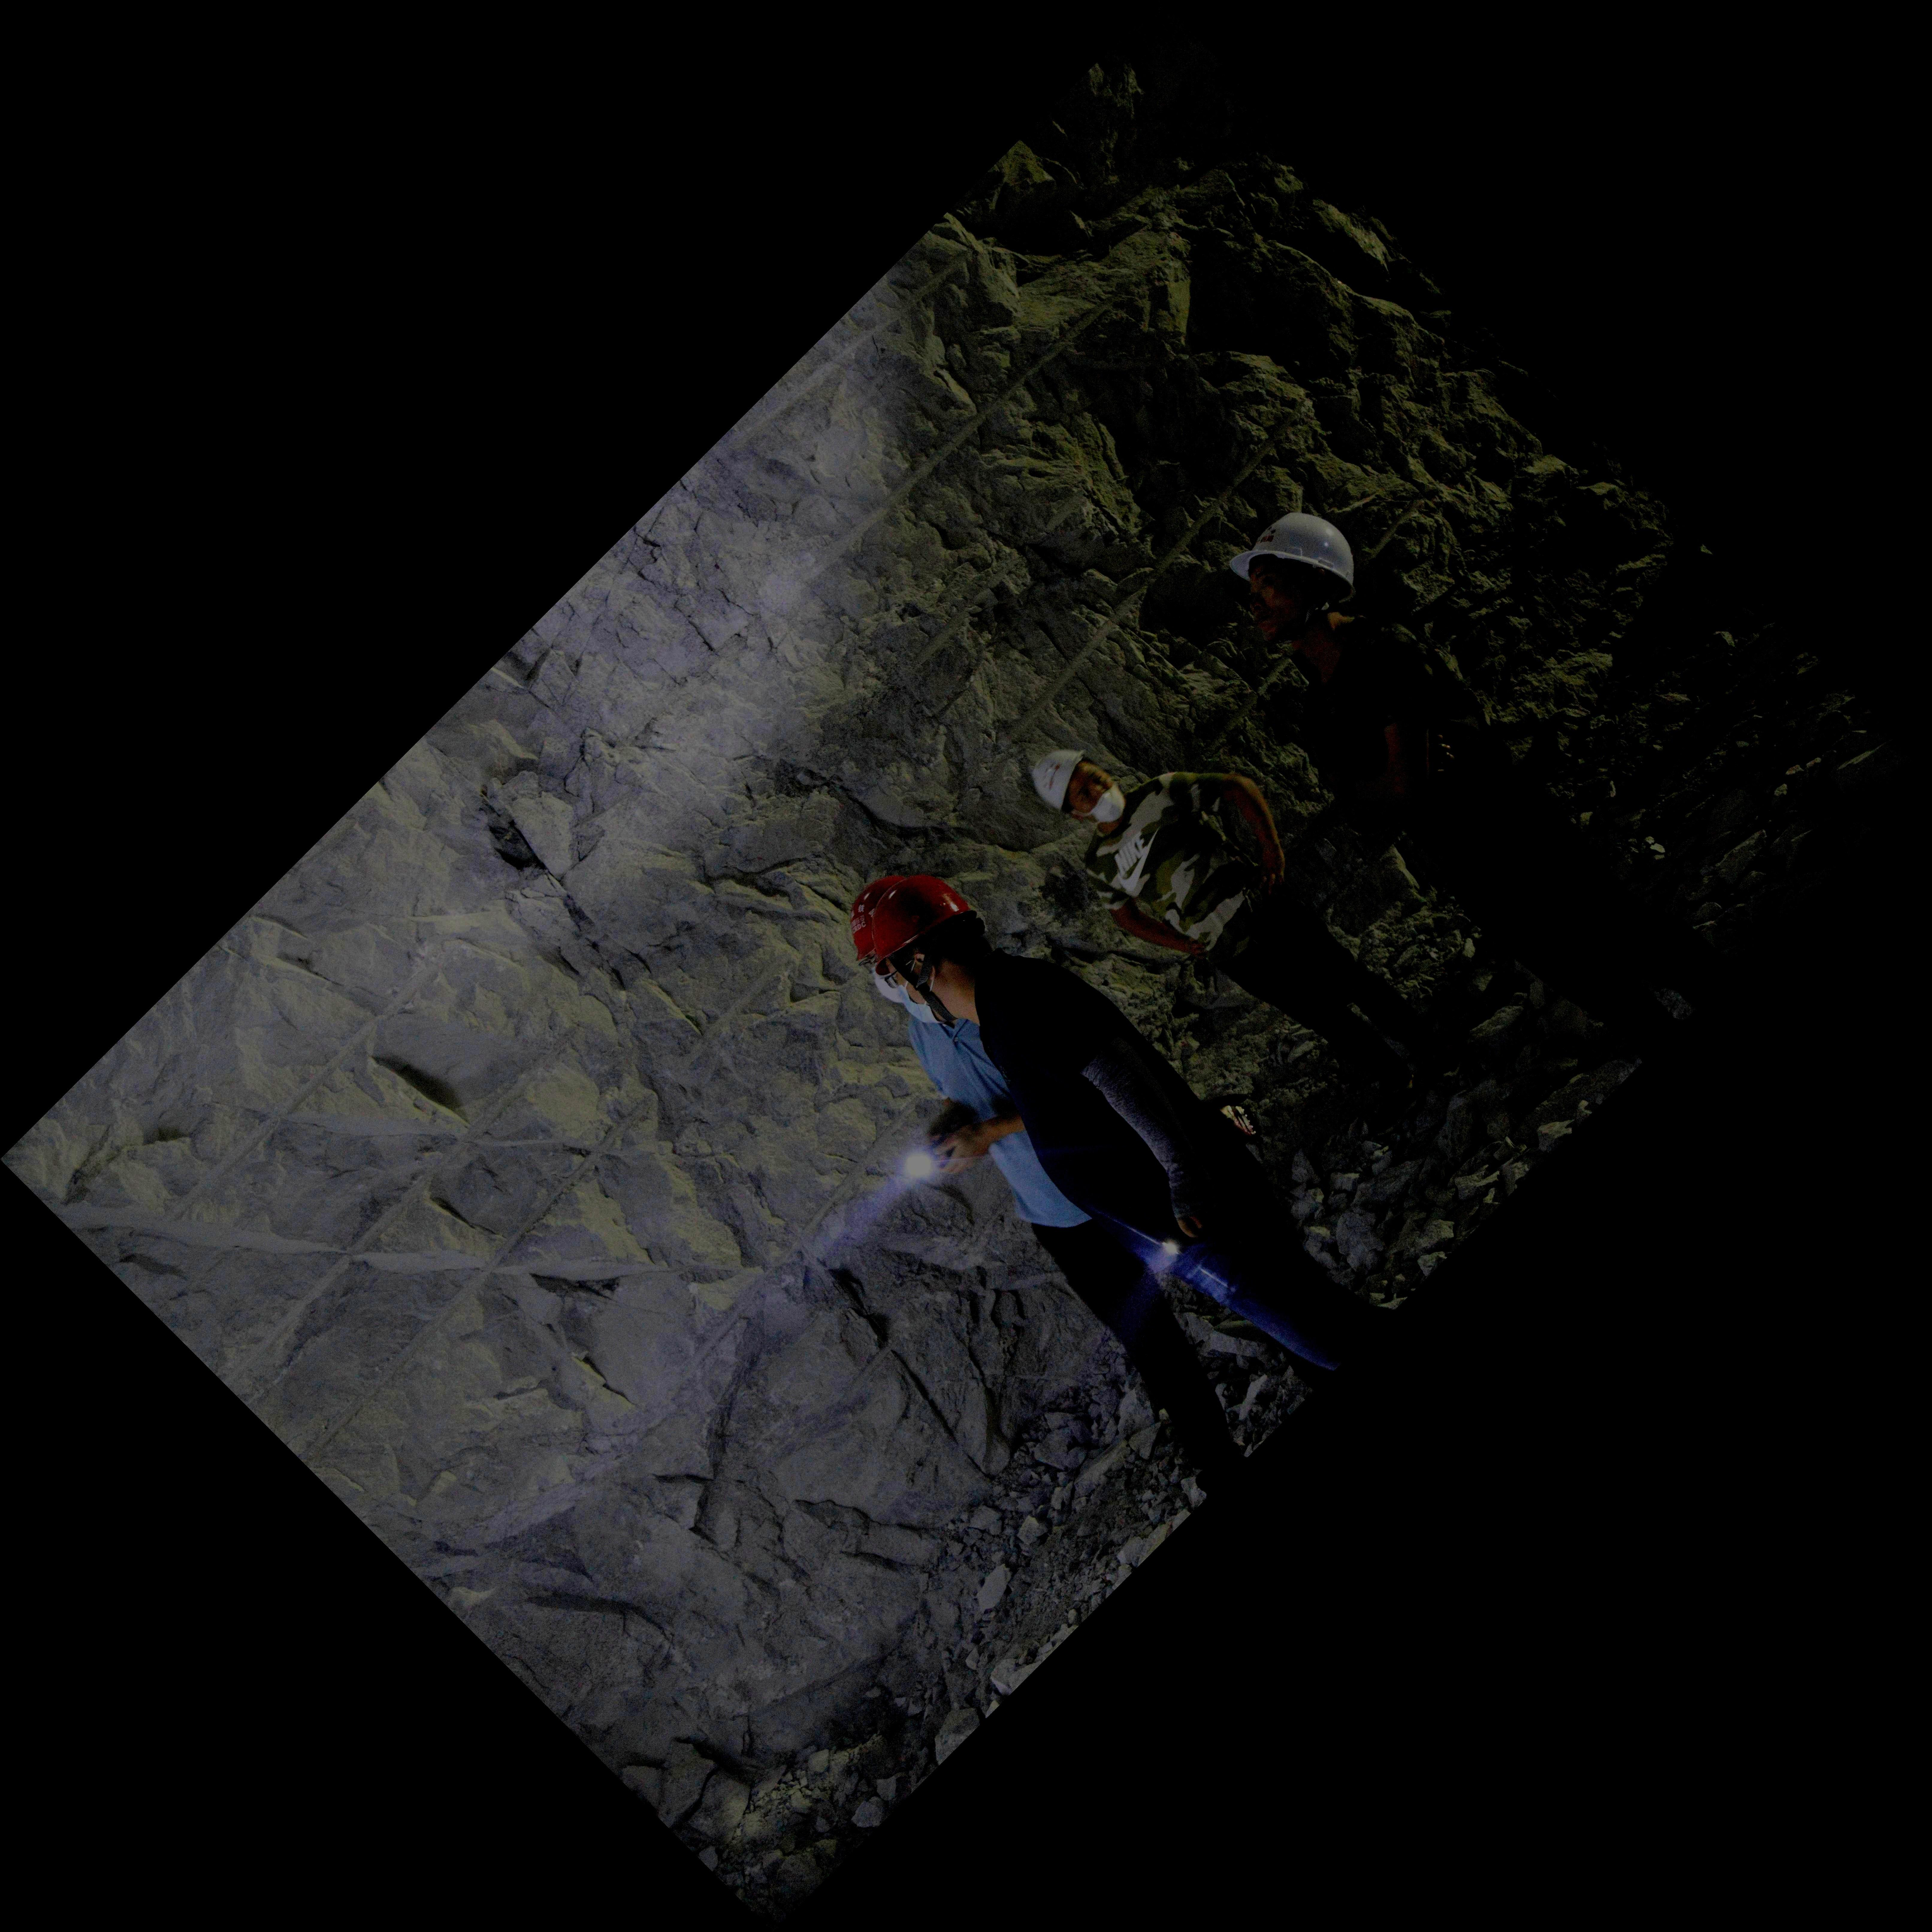helmet: (870, 874, 989, 1023), (1228, 511, 1355, 635), (849, 874, 908, 1003), (1031, 748, 1125, 823)
